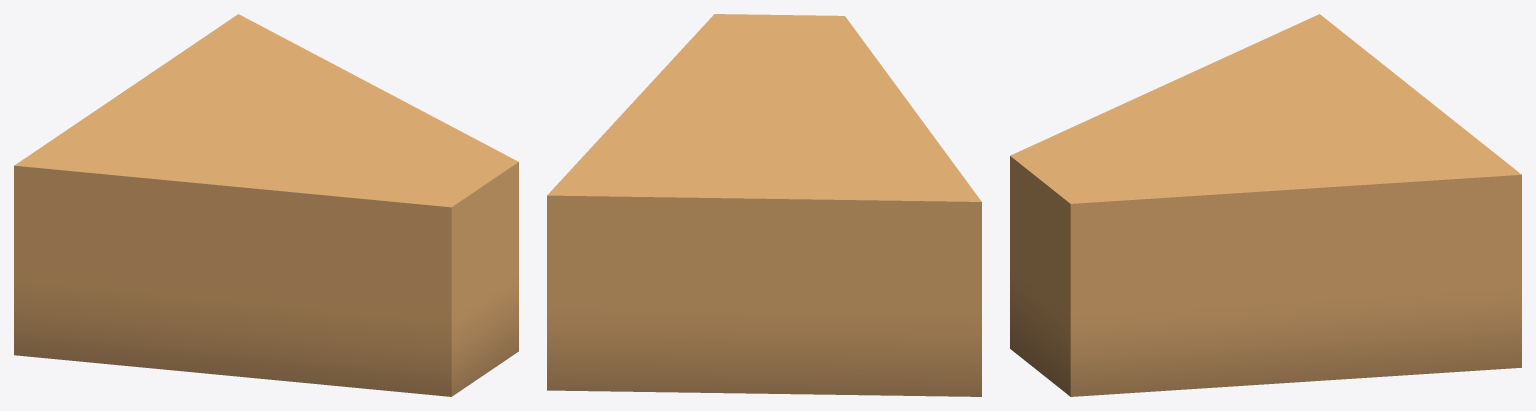
Rendered from PlatTri01.010.glb.
3 views of the same model, side by side, from view 1: azimuth 30°, elevation 25°; view 2: azimuth 150°, elevation 25°; view 3: azimuth 270°, elevation 25° (orthographic). The views are drawn at different scales.
Visible parts, largest first — view 1: PlatTri01.010; view 2: PlatTri01.010; view 3: PlatTri01.010.
Part boxes in pixels (left/top/right/bottom): PlatTri01.010: left=14, top=14, right=518, bottom=396; PlatTri01.010: left=547, top=14, right=981, bottom=396; PlatTri01.010: left=1010, top=14, right=1521, bottom=396.
Size of what is drawn, in the model's own units: 2.43 by 1.15 by 2.77.
1 material, 1 textured.
